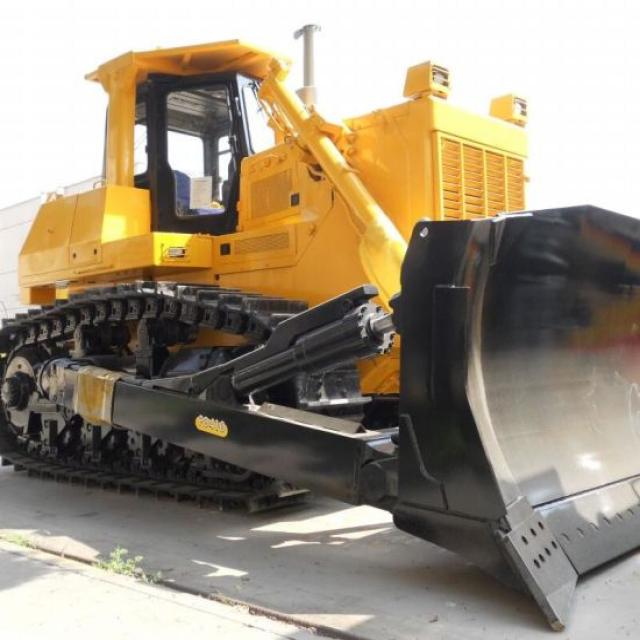buldozerpayloadergrader: (7, 17, 640, 625)
